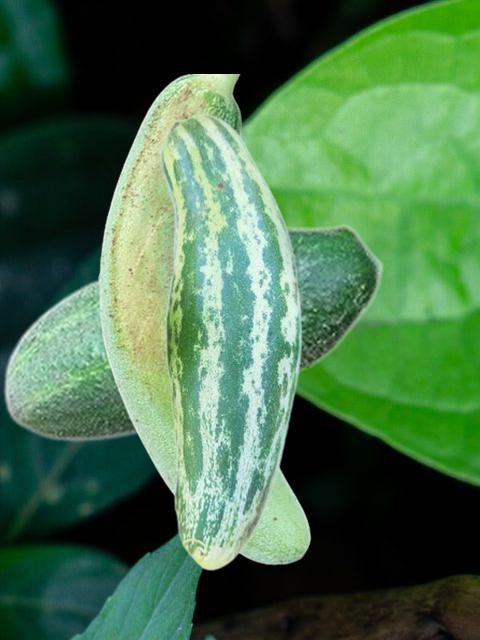cucumber: (98, 74, 310, 564), (2, 223, 384, 441), (159, 112, 301, 570)
